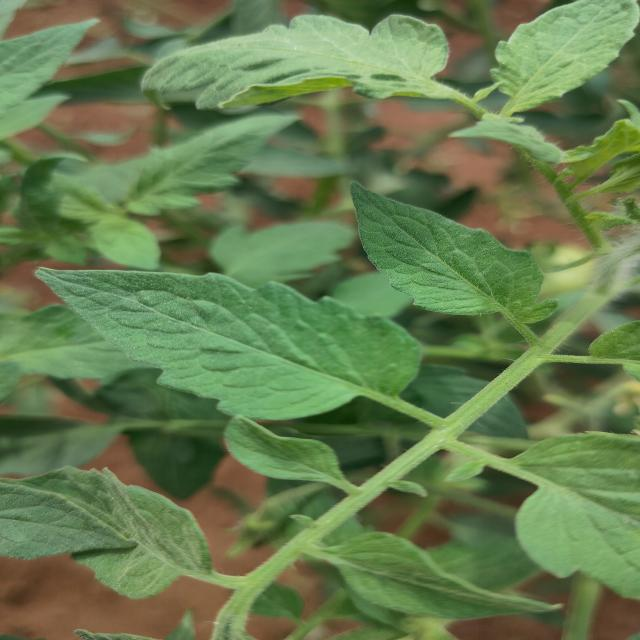tomato_healthy: (31, 267, 428, 418), (147, 8, 630, 107), (352, 181, 550, 317), (3, 472, 210, 597), (326, 530, 559, 618)
